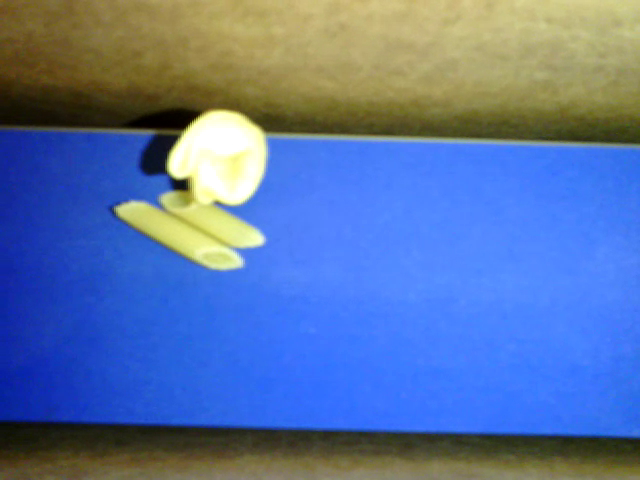penne: (112, 200, 245, 271), (157, 189, 267, 250)
tortellini: (166, 108, 268, 207)
